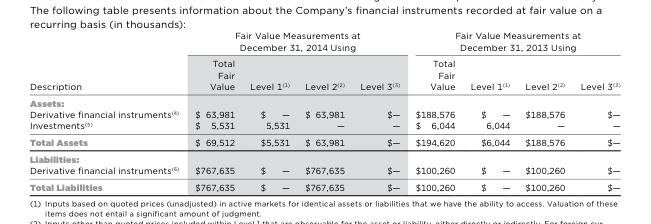table: (28, 29, 619, 192)
table column: (28, 29, 186, 192), (351, 29, 407, 192), (516, 29, 572, 192), (186, 29, 241, 192), (241, 29, 296, 192), (296, 29, 351, 192), (407, 29, 462, 192), (462, 29, 516, 192), (572, 29, 619, 192)
table column header: (28, 29, 619, 93)
table projected row header: (28, 93, 619, 108), (28, 149, 619, 164)
table row: (28, 54, 619, 93), (28, 29, 619, 54), (28, 132, 619, 149), (28, 93, 619, 108), (28, 149, 619, 164), (28, 177, 619, 192), (28, 119, 619, 132), (28, 164, 619, 177), (28, 108, 619, 119)
table spanning cell: (28, 29, 186, 93), (186, 29, 407, 54), (407, 29, 619, 54)
